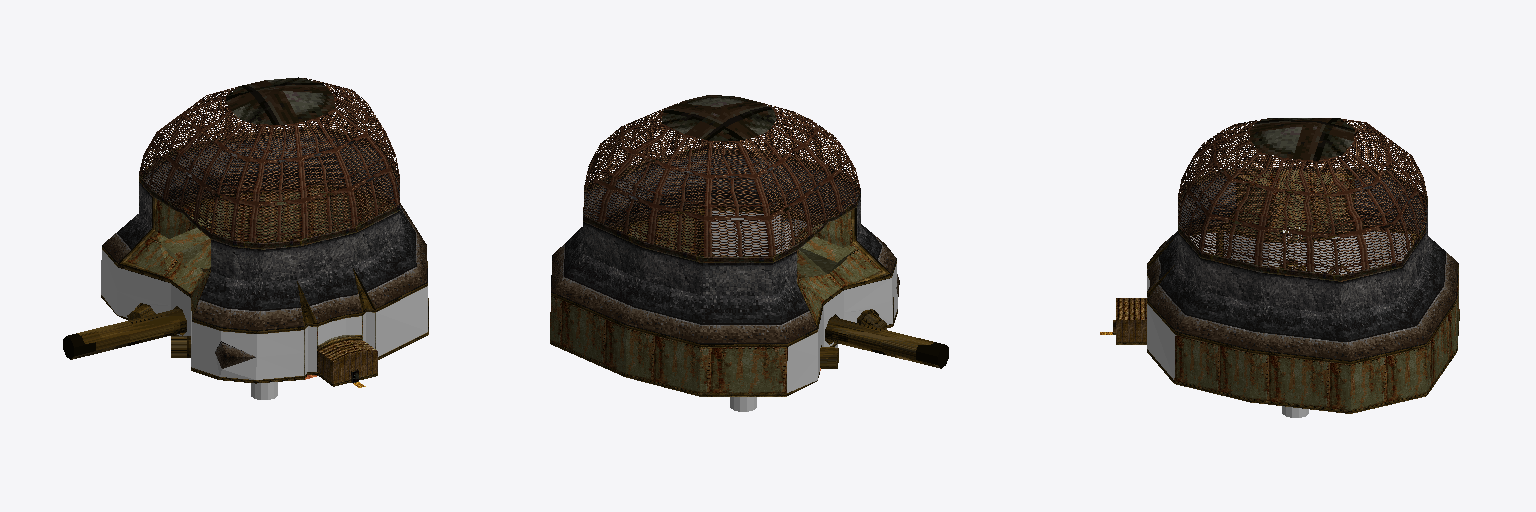
3 views of the same model, side by side, from view 1: azimuth 30°, elevation 25°; view 2: azimuth 150°, elevation 25°; view 3: azimuth 270°, elevation 25° (orthographic).
Visible parts, largest first — view 1: #Room0#_FishingPond.003_BlackWall., #Room0#_FishingPond.003_Web., #Room0#_FishingPond.003_Rock_Dirt3., #Room0#_FishingPond.003_Piranesi_material_75#SFX_2, #Room0#_FishingPond.003_Red_Brick., #Room0#_FishingPond.003_stone_wall_spider_mirror.#MirrorX#Mirror, #Room0#_FishingPond.003_stone_wall_decorative_bottom_05#SFX_2, #Room0#_FishingPond.003_Piranesi_material_55#SFX_A, #Room0#_FishingPond.003_Rainbow#NoCollision#Animated9, #Room0#_FishingPond.003_light.#MirrorX, #Room0#_FishingPond.003_Wood#SFX_9; view 2: #Room0#_FishingPond.003_BlackWall., #Room0#_FishingPond.003_Web., #Room0#_FishingPond.003_Red_Brick., #Room0#_FishingPond.003_Piranesi_material_75#SFX_2, #Room0#_FishingPond.003_Rock_Dirt3., #Room0#_FishingPond.003_stone_wall_spider_mirror.#MirrorX#Mirror, #Room0#_FishingPond.003_stone_wall_decorative_bottom_05#SFX_2; view 3: #Room0#_FishingPond.003_BlackWall., #Room0#_FishingPond.003_Web., #Room0#_FishingPond.003_Red_Brick., #Room0#_FishingPond.003_stone_wall_spider_mirror.#MirrorX#Mirror, #Room0#_FishingPond.003_Piranesi_material_75#SFX_2, #Room0#_FishingPond.003_Rock_Dirt3., #Room0#_FishingPond.003_stone_wall_decorative_bottom_05#SFX_2, #Room0#_FishingPond.003_Piranesi_material_55#SFX_A, #Room0#_FishingPond.003_Wood#SFX_9.
Part boxes in pixels (x1,y1,x2,y2): #Room0#_FishingPond.003_BlackWall.: (102, 133, 427, 368); #Room0#_FishingPond.003_Web.: (139, 78, 399, 242); #Room0#_FishingPond.003_Rock_Dirt3.: (101, 250, 427, 379); #Room0#_FishingPond.003_Piranesi_material_75#SFX_2: (63, 185, 428, 386); #Room0#_FishingPond.003_Red_Brick.: (128, 188, 427, 345); #Room0#_FishingPond.003_stone_wall_spider_mirror.#MirrorX#Mirror: (226, 77, 334, 124); #Room0#_FishingPond.003_stone_wall_decorative_bottom_05#SFX_2: (139, 126, 399, 249); #Room0#_FishingPond.003_Piranesi_material_55#SFX_A: (318, 351, 377, 383); #Room0#_FishingPond.003_Rainbow#NoCollision#Animated9: (305, 312, 374, 374); #Room0#_FishingPond.003_light.#MirrorX: (318, 316, 361, 344); #Room0#_FishingPond.003_Wood#SFX_9: (318, 340, 376, 361); #Room0#_FishingPond.003_BlackWall.: (551, 153, 899, 343); #Room0#_FishingPond.003_Web.: (583, 101, 859, 256); #Room0#_FishingPond.003_Red_Brick.: (550, 211, 881, 392); #Room0#_FishingPond.003_Piranesi_material_75#SFX_2: (550, 194, 948, 396); #Room0#_FishingPond.003_Rock_Dirt3.: (711, 211, 897, 392); #Room0#_FishingPond.003_stone_wall_spider_mirror.#MirrorX#Mirror: (662, 95, 776, 140); #Room0#_FishingPond.003_stone_wall_decorative_bottom_05#SFX_2: (583, 146, 860, 262); #Room0#_FishingPond.003_BlackWall.: (1147, 175, 1458, 360); #Room0#_FishingPond.003_Web.: (1178, 118, 1427, 274); #Room0#_FishingPond.003_Red_Brick.: (1174, 169, 1459, 410); #Room0#_FishingPond.003_stone_wall_spider_mirror.#MirrorX#Mirror: (1250, 118, 1354, 160); #Room0#_FishingPond.003_Piranesi_material_75#SFX_2: (1113, 172, 1459, 413); #Room0#_FishingPond.003_Rock_Dirt3.: (1147, 231, 1410, 379); #Room0#_FishingPond.003_stone_wall_decorative_bottom_05#SFX_2: (1178, 165, 1427, 281); #Room0#_FishingPond.003_Piranesi_material_55#SFX_A: (1116, 320, 1146, 341); #Room0#_FishingPond.003_Wood#SFX_9: (1116, 298, 1146, 319).
Size of the model in its own units: 3256 by 2545 by 2795.
32 materials, 21 textured.